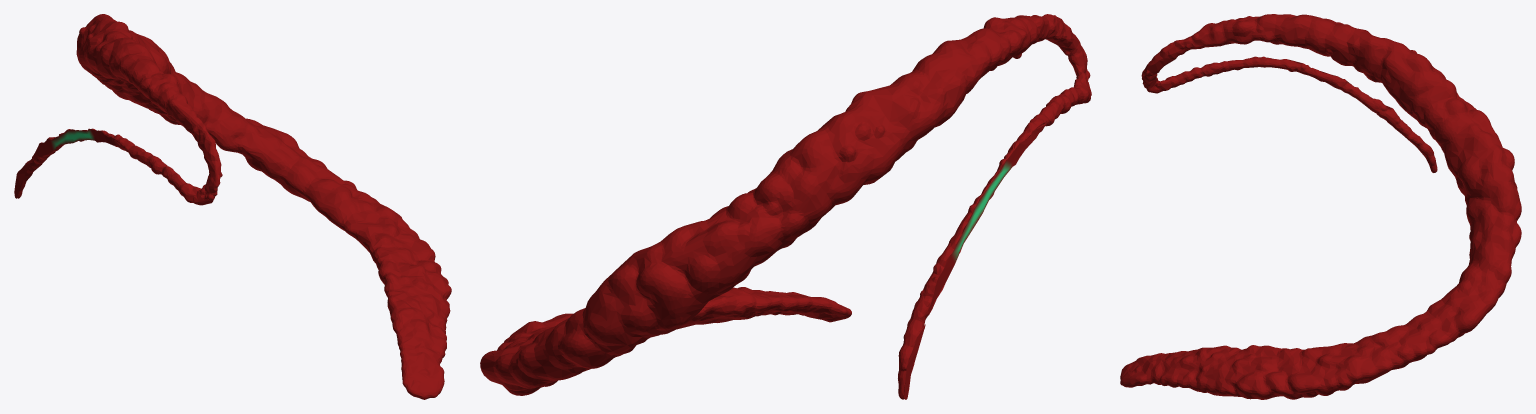
Rendered from Right_choiroid_plexus.obj.
3 renders of one model, left to right at view 1: azimuth 30°, elevation 25°; view 2: azimuth 150°, elevation 25°; view 3: azimuth 270°, elevation 25°, orthographic. The views are drawn at different scales.
Visible parts, largest first — view 1: obj0; view 2: obj0; view 3: obj0.
Part boxes in pixels (x1=…): obj0: x1=14, y1=14, x2=451, y2=399; obj0: x1=480, y1=14, x2=1091, y2=399; obj0: x1=1120, y1=14, x2=1521, y2=399.
Bounding box in the file's own units: 38.47 × 34.92 × 44.55.
1 material, 1 textured.
